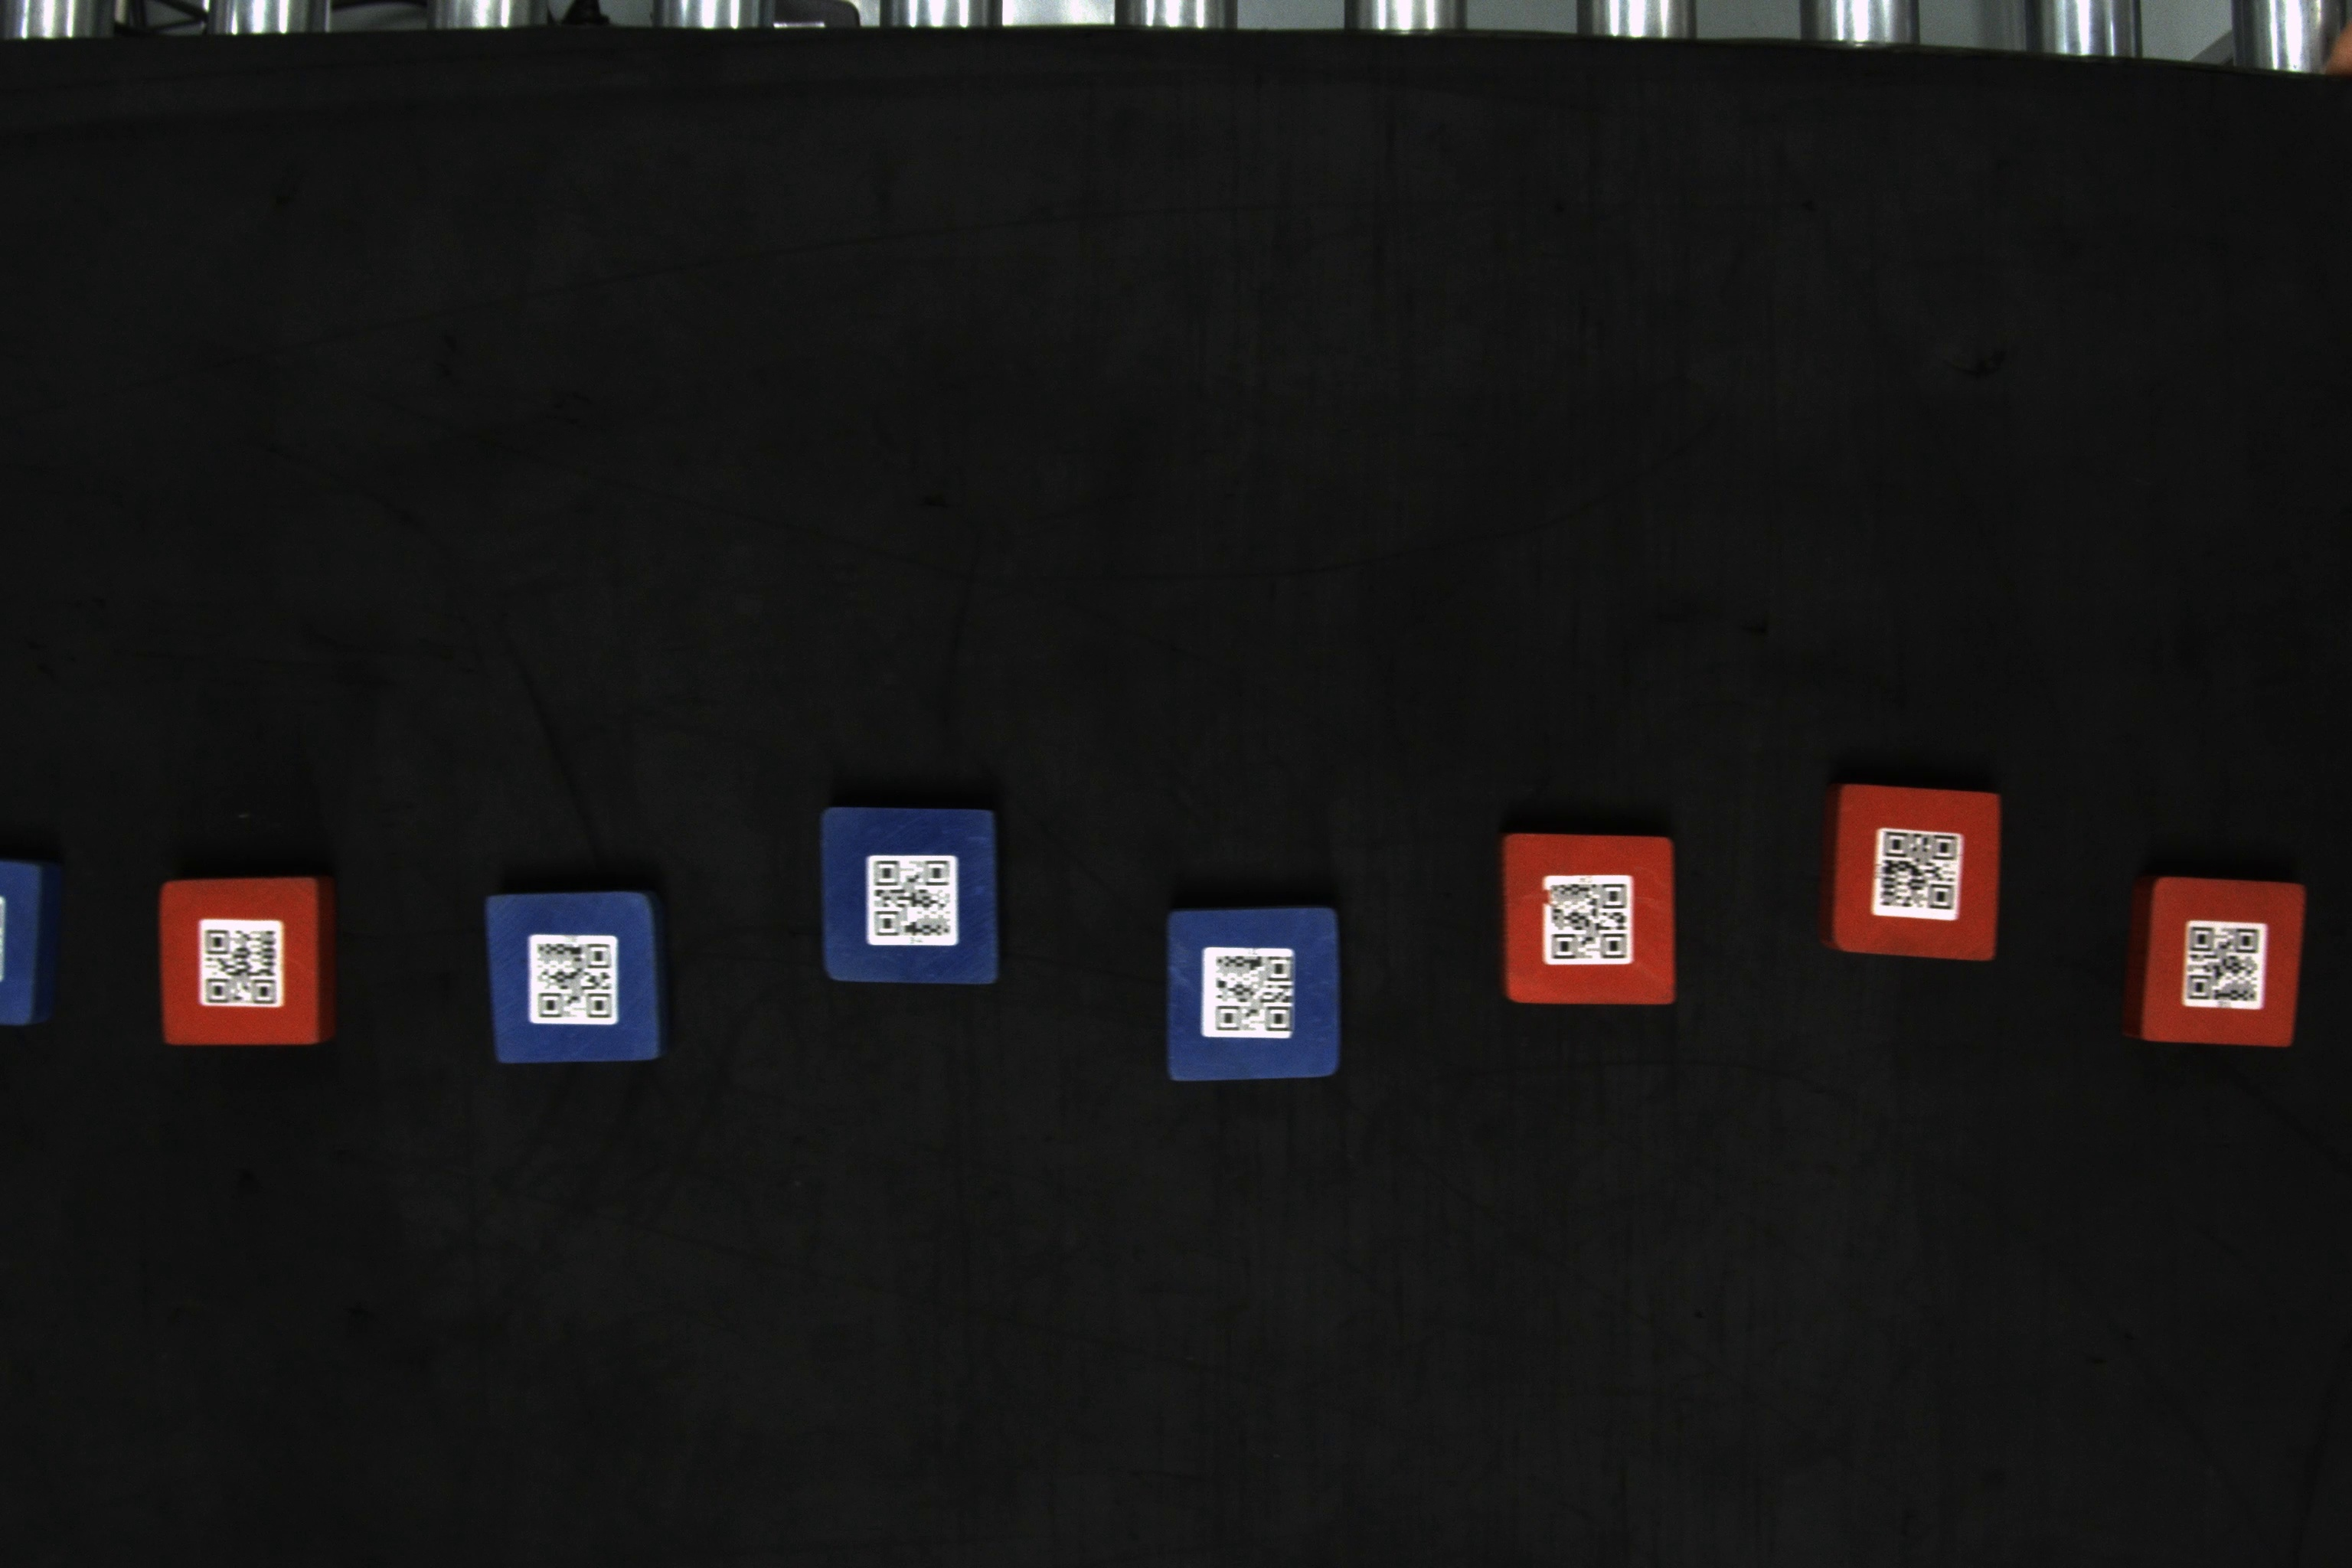wood: (817, 798, 1013, 996), (154, 873, 345, 1055), (478, 889, 668, 1069), (1823, 779, 2004, 969), (2130, 870, 2310, 1055), (1494, 829, 1680, 1008), (1160, 903, 1347, 1078)
